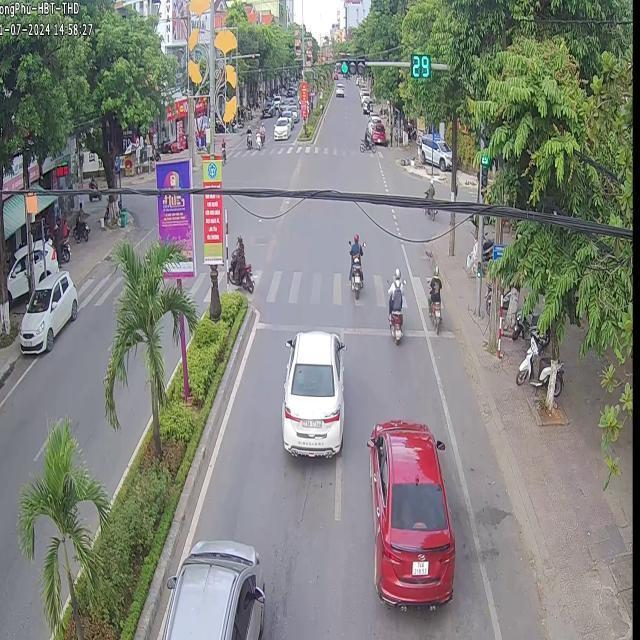car: (366, 418, 453, 605), (162, 538, 263, 638), (280, 329, 344, 456), (18, 269, 77, 351)
green_light: (410, 53, 430, 78), (337, 61, 366, 76), (479, 156, 488, 197)
motobike: (387, 280, 404, 340), (347, 234, 362, 297), (427, 265, 440, 331), (239, 262, 253, 291), (226, 247, 236, 282)
stop_line: (255, 320, 388, 335)
